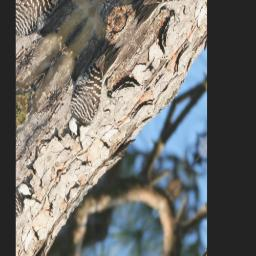Woodpecker: (52, 29, 144, 153)
